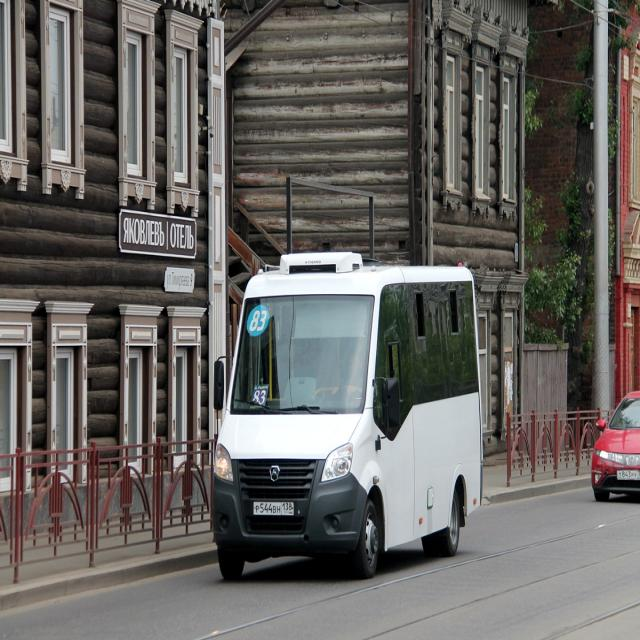number-of-bus: (249, 309, 269, 335), (253, 391, 269, 407)
